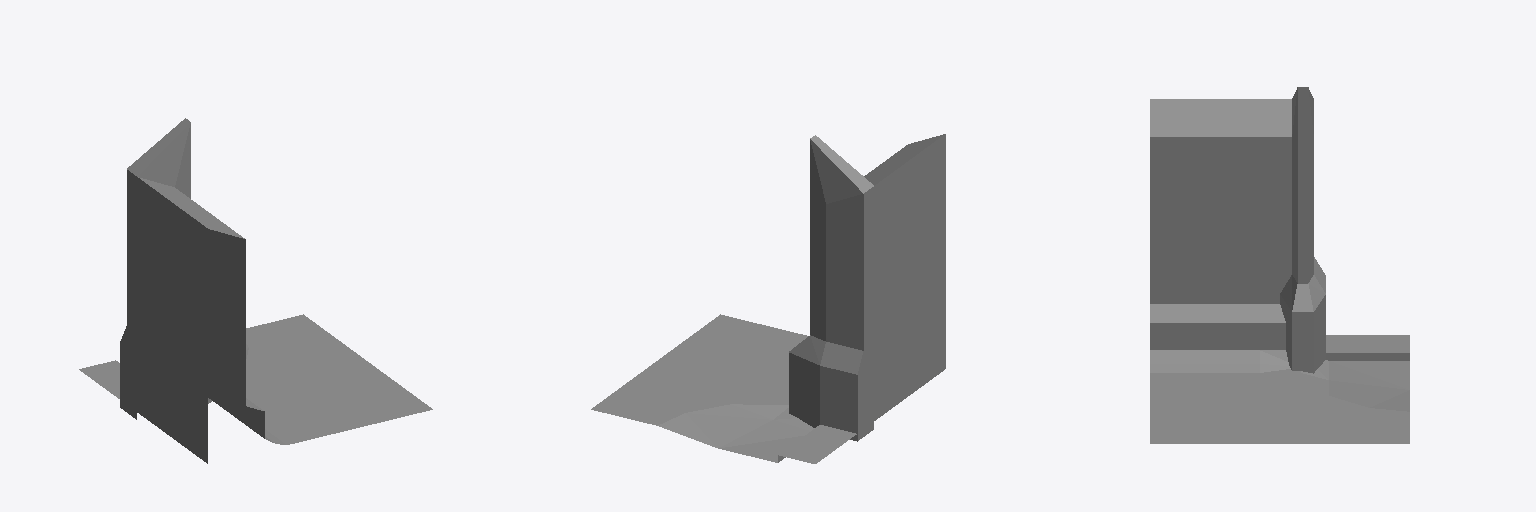
Rendered from Ext_Wall_Gap_Left.obj.
The picture shows the model from 3 angles: view 1: azimuth 30°, elevation 25°; view 2: azimuth 150°, elevation 25°; view 3: azimuth 270°, elevation 25°; orthographic projection.
Visible parts, largest first — view 1: Palette; view 2: Palette; view 3: Palette.
Part boxes in pixels (x1,y1,x2,y2): Palette: (79, 118, 432, 463); Palette: (591, 134, 945, 463); Palette: (1150, 87, 1409, 443).
Bounding box in the file's own units: 6 × 7.2 × 6.